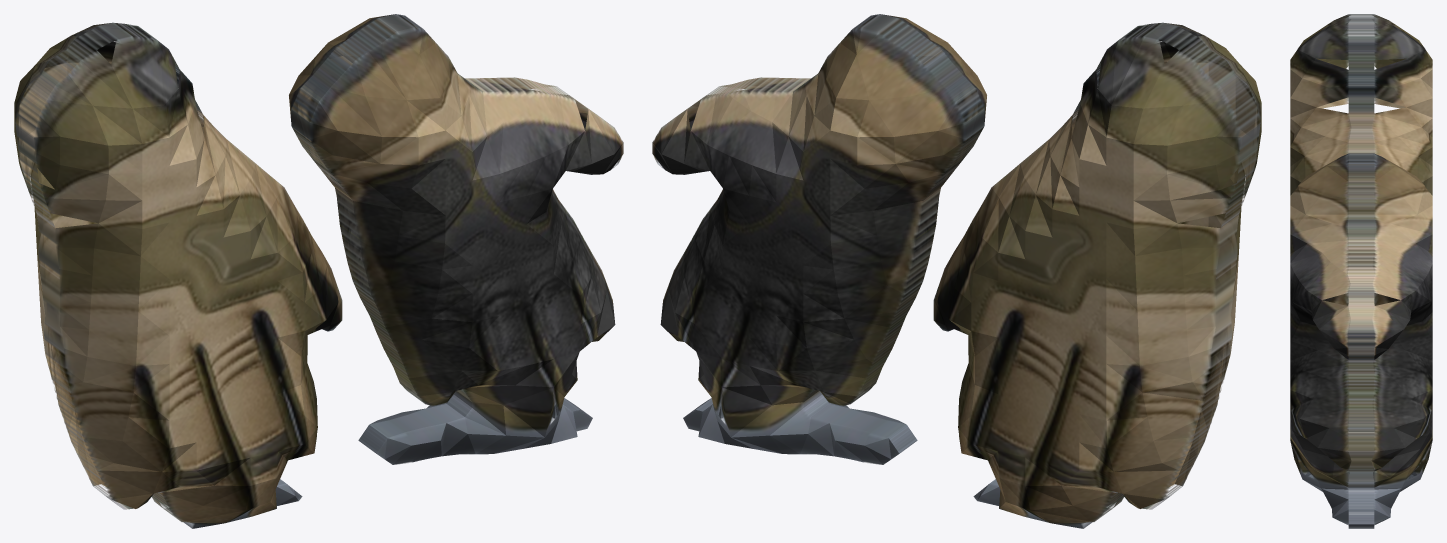
The model's file is randg-horizon-touring-glove-096.glb.
The picture shows the model from 3 angles, left to right: view 1: azimuth 30°, elevation 25°; view 2: azimuth 150°, elevation 25°; view 3: azimuth 270°, elevation 25°; orthographic projection. The views are drawn at different scales.
Visible parts, largest first — view 1: world; view 2: world; view 3: world.
Boxes of the visible parts, bbox=[...] form: world: bbox=[14, 14, 623, 528]; world: bbox=[652, 14, 1261, 528]; world: bbox=[1290, 14, 1432, 528].
Size of the model in its own units: 1 by 0.8226 by 0.3.
1 material, 1 textured.
